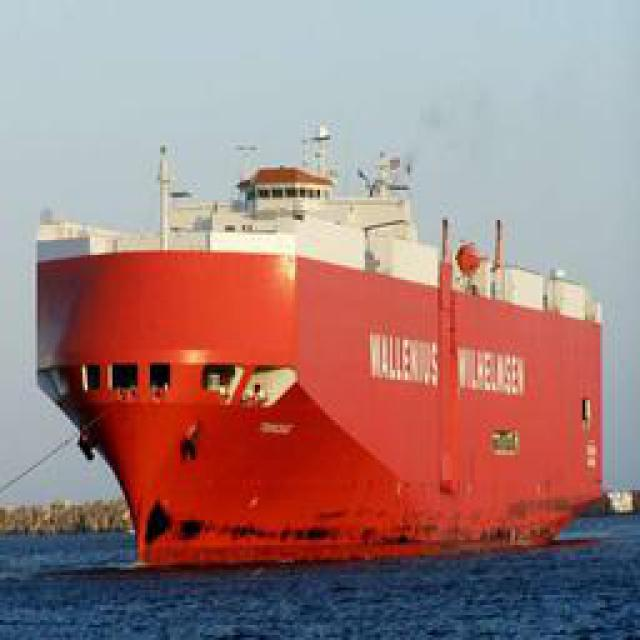Ship: (20, 116, 622, 580)
